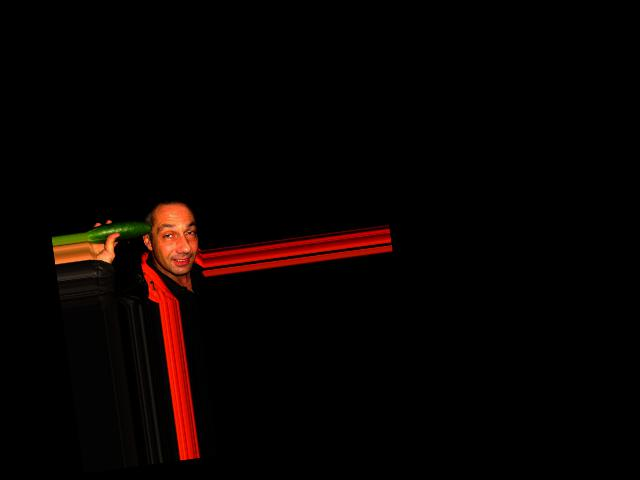cucumber: (86, 217, 153, 245)
